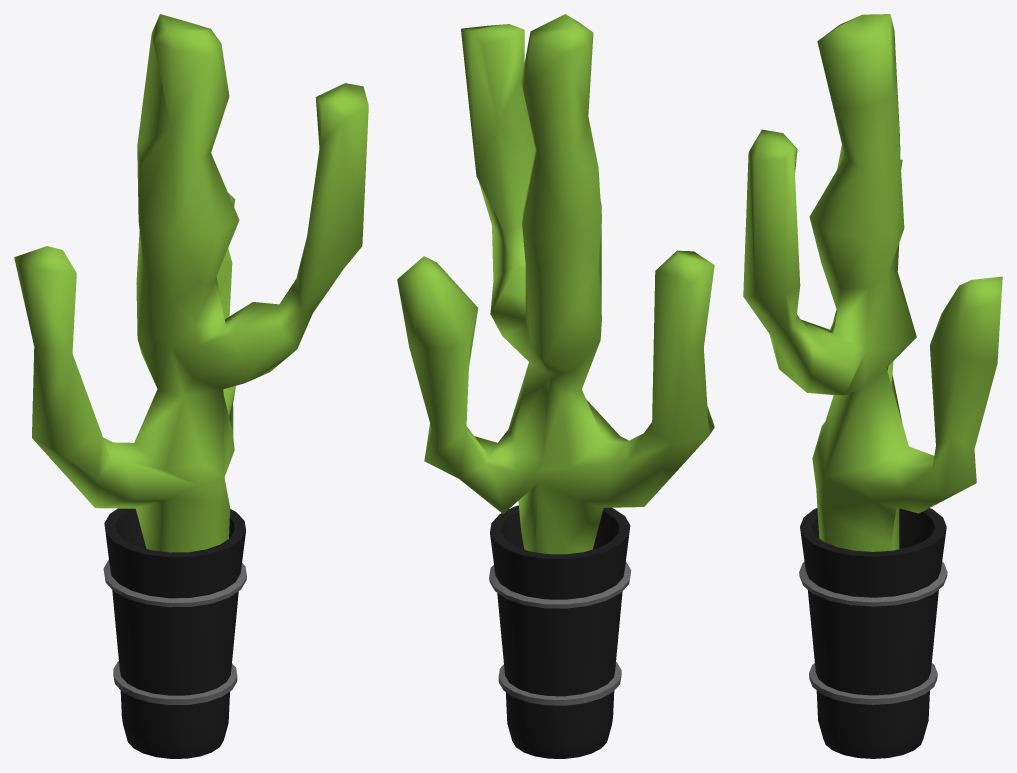
File: SM_Vase.fbx
The picture shows the model from 3 angles, left to right: view 1: azimuth 30°, elevation 25°; view 2: azimuth 150°, elevation 25°; view 3: azimuth 270°, elevation 25°; orthographic projection.
Parts seen in each view (by area): view 1: Vase; view 2: Vase; view 3: Vase.
Part boxes in pixels (<box>): Vase: <box>14,14,368,758</box>; Vase: <box>397,14,714,758</box>; Vase: <box>743,14,1002,758</box>.
Size of the model in its own units: 299 by 701 by 229.
